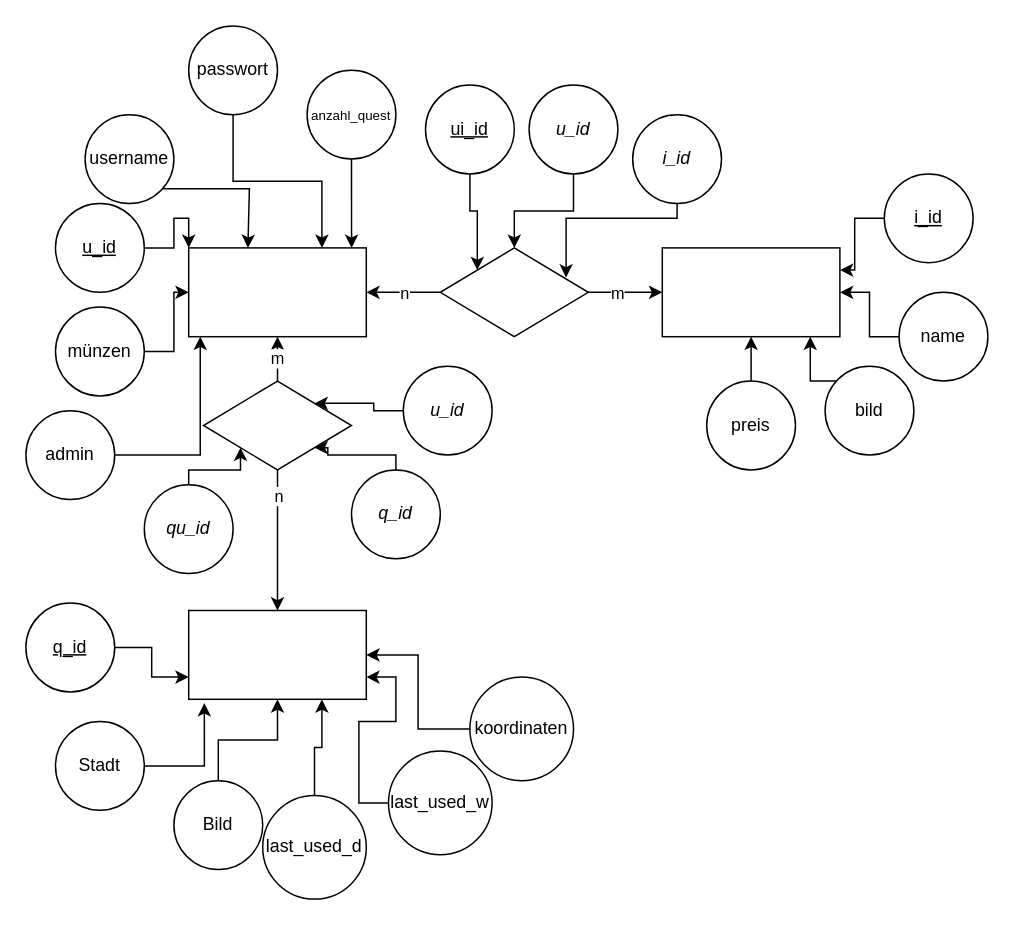
Image size: 1014x925. Some labels were removed from this diagram. Each missing label, with the box of its shape:
besitzt: (439, 246, 588, 337)
hat: (202, 380, 352, 470)
item: (661, 246, 840, 337)
Quest: (187, 609, 366, 699)
User: (187, 246, 366, 337)
